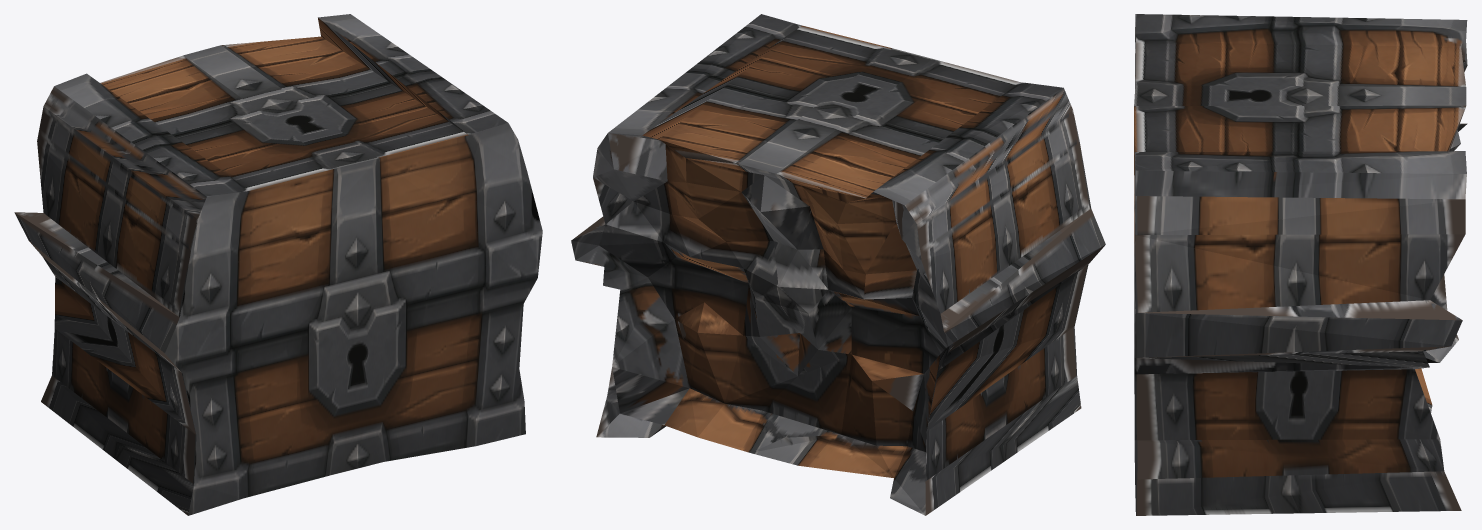
The model's file is SM_Dungeon_Chest_A_LOD2.fbx.
The picture shows the model from 3 angles, left to right: view 1: azimuth 30°, elevation 25°; view 2: azimuth 150°, elevation 25°; view 3: azimuth 270°, elevation 25°; orthographic projection. The views are drawn at different scales.
Parts seen in each view (by area): view 1: SM_Dungeon_Chest_A_LOD2; view 2: SM_Dungeon_Chest_A_LOD2; view 3: SM_Dungeon_Chest_A_LOD2.
Part boxes in pixels (x1,y1,x2,y2): SM_Dungeon_Chest_A_LOD2: (14, 14, 542, 515); SM_Dungeon_Chest_A_LOD2: (571, 14, 1105, 515); SM_Dungeon_Chest_A_LOD2: (1134, 14, 1467, 515).
Bounding box in the file's own units: 0.9911 × 0.7867 × 0.706.
